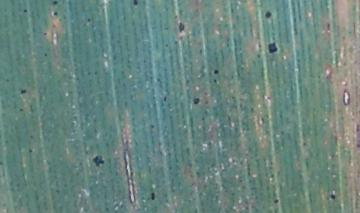tarspot: (92, 153, 105, 169), (353, 119, 360, 147), (266, 40, 279, 55), (263, 9, 273, 21), (177, 21, 185, 33), (155, 76, 163, 88), (191, 96, 200, 106), (19, 87, 28, 96), (329, 192, 337, 201), (272, 197, 280, 206), (149, 191, 157, 200), (211, 76, 219, 85), (203, 98, 211, 107), (91, 69, 100, 77), (325, 22, 332, 32), (212, 68, 220, 76), (17, 106, 25, 114), (301, 140, 309, 148), (265, 94, 273, 102), (52, 10, 59, 18), (3, 77, 11, 84), (184, 77, 191, 85), (202, 108, 209, 116), (198, 47, 204, 56), (260, 115, 265, 125), (149, 123, 156, 130), (27, 147, 34, 154), (172, 14, 179, 21), (21, 8, 29, 14), (254, 53, 262, 59), (162, 26, 170, 32), (85, 69, 91, 77), (162, 94, 167, 103), (163, 42, 170, 48), (178, 34, 184, 41), (51, 1, 59, 6), (200, 115, 205, 123), (132, 1, 138, 7), (172, 40, 178, 46), (249, 106, 255, 112), (86, 16, 91, 23), (43, 51, 48, 58), (42, 31, 48, 36), (1, 160, 4, 167)
